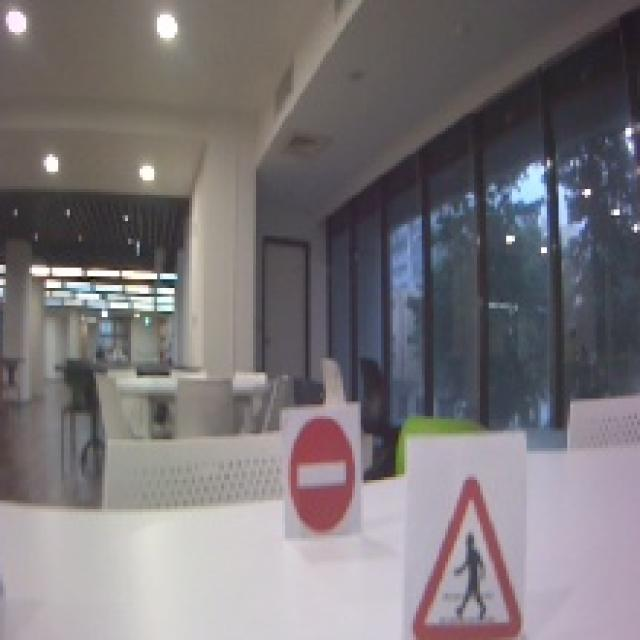DoNotEnterSign: (290, 412, 357, 534)
